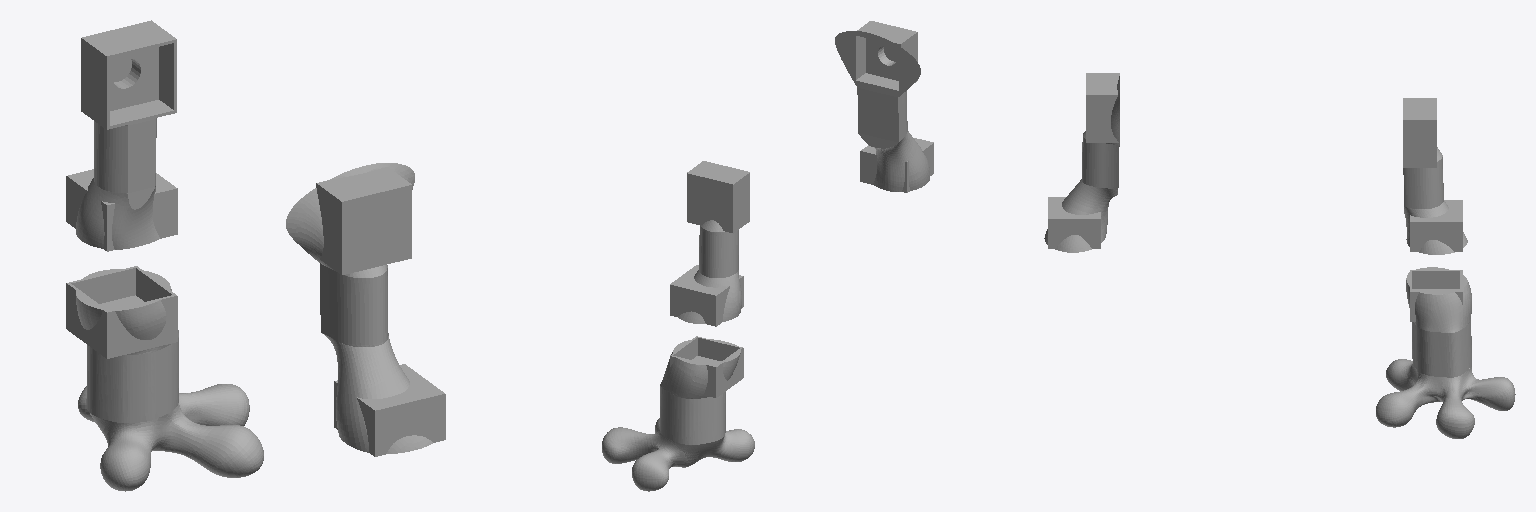
robot.urdf — FrogBot1_top-FrogBot1-y-9_bottom-FrogBot1-y-9:
<?xml version="1.0" ?>
<robot name="FrogBot1_top-FrogBot1-y-9_bottom-FrogBot1-y-9">

<material name="pla_5_percent_infill">
  <color rgba="0.700 0.700 0.700 1.000"/>
</material>

<link name="base_link">
  <inertial>
    <origin xyz="0 0 0" rpy="0 0 0"/>
    <mass value="1.4103143072721238"/>
    <inertia ixx="0.004671865419262023" iyy="0.01102984328633242" izz="0.011972094032648898" ixy="0.00015185420958179873" iyz="8.583160306759328e-05" ixz="-0.0012132770853355082"/>
  </inertial>
  <visual>
    <origin xyz="0 0 0" rpy="0 0 0"/>
    <geometry>
      <mesh filename="simple_meshes/base_link.stl" scale="0.001 0.001 0.001"/>
    </geometry>
    <material name="pla_5_percent_infill"/>
  </visual>
  <collision>
    <origin xyz="0 0 0" rpy="0 0 0"/>
    <geometry>
      <mesh filename="simple_meshes/base_link.stl" scale="0.001 0.001 0.001"/>
    </geometry>
  </collision>
</link>

<link name="body_1_0_1">
  <inertial>
    <origin xyz="-0.045735 -0.109621 -0.00462" rpy="0 0 0"/>
    <mass value="0.048668286482608916"/>
    <inertia ixx="6.887661500618036e-05" iyy="7.04577874364621e-05" izz="1.6242132023644267e-05" ixy="-4.716009065339937e-07" iyz="4.197512352394723e-06" ixz="8.826738522888514e-07"/>
  </inertial>
  <visual>
    <origin xyz="-0.045735 -0.109621 -0.00462" rpy="0 0 0"/>
    <geometry>
      <mesh filename="simple_meshes/body_1_0_1.stl" scale="0.001 0.001 0.001"/>
    </geometry>
    <material name="pla_5_percent_infill"/>
  </visual>
  <collision>
    <origin xyz="-0.045735 -0.109621 -0.00462" rpy="0 0 0"/>
    <geometry>
      <mesh filename="simple_meshes/body_1_0_1.stl" scale="0.001 0.001 0.001"/>
    </geometry>
  </collision>
</link>

<link name="body_1_1_1">
  <inertial>
    <origin xyz="0.086489 -0.109621 -0.018802" rpy="0 0 0"/>
    <mass value="0.09023407120088159"/>
    <inertia ixx="0.0001316774515884027" iyy="0.00013956713434980727" izz="4.8496490876420544e-05" ixy="6.474050119949226e-06" iyz="1.7480621280759642e-05" ixz="-2.6032231009540325e-05"/>
  </inertial>
  <visual>
    <origin xyz="0.086489 -0.109621 -0.018802" rpy="0 0 0"/>
    <geometry>
      <mesh filename="simple_meshes/body_1_1_1.stl" scale="0.001 0.001 0.001"/>
    </geometry>
    <material name="pla_5_percent_infill"/>
  </visual>
  <collision>
    <origin xyz="0.086489 -0.109621 -0.018802" rpy="0 0 0"/>
    <geometry>
      <mesh filename="simple_meshes/body_1_1_1.stl" scale="0.001 0.001 0.001"/>
    </geometry>
  </collision>
</link>

<link name="body_1_2_1">
  <inertial>
    <origin xyz="-0.040267 0.109621 -0.027764" rpy="0 0 0"/>
    <mass value="0.060337074263231386"/>
    <inertia ixx="0.00012370040882443483" iyy="0.00012167358474623308" izz="2.5170059210042608e-05" ixy="6.817579499822802e-07" iyz="-1.8037113073678937e-05" ixz="-1.8531244077202476e-07"/>
  </inertial>
  <visual>
    <origin xyz="-0.040267 0.109621 -0.027764" rpy="0 0 0"/>
    <geometry>
      <mesh filename="simple_meshes/body_1_2_1.stl" scale="0.001 0.001 0.001"/>
    </geometry>
    <material name="pla_5_percent_infill"/>
  </visual>
  <collision>
    <origin xyz="-0.040267 0.109621 -0.027764" rpy="0 0 0"/>
    <geometry>
      <mesh filename="simple_meshes/body_1_2_1.stl" scale="0.001 0.001 0.001"/>
    </geometry>
  </collision>
</link>

<link name="body_1_3_1">
  <inertial>
    <origin xyz="0.090407 0.109621 -0.022193" rpy="0 0 0"/>
    <mass value="0.08843891257572972"/>
    <inertia ixx="0.0001413551611192925" iyy="0.00015111699674743868" izz="5.070226831142225e-05" ixy="-7.8995368414127e-06" iyz="-2.157702250069266e-05" ixz="-3.1318415931436713e-05"/>
  </inertial>
  <visual>
    <origin xyz="0.090407 0.109621 -0.022193" rpy="0 0 0"/>
    <geometry>
      <mesh filename="simple_meshes/body_1_3_1.stl" scale="0.001 0.001 0.001"/>
    </geometry>
    <material name="pla_5_percent_infill"/>
  </visual>
  <collision>
    <origin xyz="0.090407 0.109621 -0.022193" rpy="0 0 0"/>
    <geometry>
      <mesh filename="simple_meshes/body_1_3_1.stl" scale="0.001 0.001 0.001"/>
    </geometry>
  </collision>
</link>

<link name="body_2_0_1">
  <inertial>
    <origin xyz="-0.049562 -0.159797 0.120064" rpy="0 0 0"/>
    <mass value="0.1238908610975304"/>
    <inertia ixx="0.000187905697823754" iyy="0.0002011997183433891" izz="0.0001437409351077077" ixy="-4.738678014313538e-06" iyz="-1.7145257468825434e-06" ixz="4.229083921211533e-05"/>
  </inertial>
  <visual>
    <origin xyz="-0.049562 -0.159797 0.120064" rpy="0 0 0"/>
    <geometry>
      <mesh filename="simple_meshes/body_2_0_1.stl" scale="0.001 0.001 0.001"/>
    </geometry>
    <material name="pla_5_percent_infill"/>
  </visual>
  <collision>
    <origin xyz="-0.049562 -0.159797 0.120064" rpy="0 0 0"/>
    <geometry>
      <mesh filename="simple_meshes/body_2_0_1.stl" scale="0.001 0.001 0.001"/>
    </geometry>
  </collision>
</link>

<link name="body_2_1_1">
  <inertial>
    <origin xyz="0.121182 -0.173952 0.120064" rpy="0 0 0"/>
    <mass value="0.1377099919851931"/>
    <inertia ixx="0.00020140669127355695" iyy="0.00021489094800557738" izz="0.00016042424234425767" ixy="-8.164014249785988e-07" iyz="2.438609023181805e-05" ixz="5.393201911764326e-05"/>
  </inertial>
  <visual>
    <origin xyz="0.121182 -0.173952 0.120064" rpy="0 0 0"/>
    <geometry>
      <mesh filename="simple_meshes/body_2_1_1.stl" scale="0.001 0.001 0.001"/>
    </geometry>
    <material name="pla_5_percent_infill"/>
  </visual>
  <collision>
    <origin xyz="0.121182 -0.173952 0.120064" rpy="0 0 0"/>
    <geometry>
      <mesh filename="simple_meshes/body_2_1_1.stl" scale="0.001 0.001 0.001"/>
    </geometry>
  </collision>
</link>

<link name="body_2_2_1">
  <inertial>
    <origin xyz="-0.04311 0.170506 0.120064" rpy="0 0 0"/>
    <mass value="0.12976234413611415"/>
    <inertia ixx="0.00019952976041925918" iyy="0.00019339136669536874" izz="0.00014883443463354663" ixy="1.3197516990387948e-06" iyz="-9.493466190841314e-06" ixz="3.08909521455473e-05"/>
  </inertial>
  <visual>
    <origin xyz="-0.04311 0.170506 0.120064" rpy="0 0 0"/>
    <geometry>
      <mesh filename="simple_meshes/body_2_2_1.stl" scale="0.001 0.001 0.001"/>
    </geometry>
    <material name="pla_5_percent_infill"/>
  </visual>
  <collision>
    <origin xyz="-0.04311 0.170506 0.120064" rpy="0 0 0"/>
    <geometry>
      <mesh filename="simple_meshes/body_2_2_1.stl" scale="0.001 0.001 0.001"/>
    </geometry>
  </collision>
</link>

<link name="body_2_3_1">
  <inertial>
    <origin xyz="0.129712 0.175384 0.120064" rpy="0 0 0"/>
    <mass value="0.1332848953881674"/>
    <inertia ixx="0.00020992661733601828" iyy="0.00020852034400216726" izz="0.0001465374956686489" ixy="7.162724412855016e-06" iyz="-3.056641905423239e-05" ixz="5.084116385044822e-05"/>
  </inertial>
  <visual>
    <origin xyz="0.129712 0.175384 0.120064" rpy="0 0 0"/>
    <geometry>
      <mesh filename="simple_meshes/body_2_3_1.stl" scale="0.001 0.001 0.001"/>
    </geometry>
    <material name="pla_5_percent_infill"/>
  </visual>
  <collision>
    <origin xyz="0.129712 0.175384 0.120064" rpy="0 0 0"/>
    <geometry>
      <mesh filename="simple_meshes/body_2_3_1.stl" scale="0.001 0.001 0.001"/>
    </geometry>
  </collision>
</link>

<joint name="joint_1_0" type="revolute">
  <origin xyz="0.045735 0.109621 0.00462" rpy="0 0 0"/>
  <parent link="base_link"/>
  <child link="body_1_0_1"/>
  <axis xyz="0.0 0.0 -1.0"/>
  <limit upper="1.2" lower="-1.2" effort="3.8" velocity="5.4"/>
</joint>
<transmission name="joint_1_0_tran">
  <type>transmission_interface/SimpleTransmission</type>
  <joint name="joint_1_0">
    <hardwareInterface>PositionJointInterface</hardwareInterface>
  </joint>
  <actuator name="joint_1_0_actr">
    <hardwareInterface>PositionJointInterface</hardwareInterface>
    <mechanicalReduction>1</mechanicalReduction>
  </actuator>
</transmission>

<joint name="joint_1_1" type="revolute">
  <origin xyz="-0.086489 0.109621 0.018802" rpy="0 0 0"/>
  <parent link="base_link"/>
  <child link="body_1_1_1"/>
  <axis xyz="0.0 0.0 -1.0"/>
  <limit upper="1.2" lower="-1.2" effort="3.8" velocity="5.4"/>
</joint>
<transmission name="joint_1_1_tran">
  <type>transmission_interface/SimpleTransmission</type>
  <joint name="joint_1_1">
    <hardwareInterface>PositionJointInterface</hardwareInterface>
  </joint>
  <actuator name="joint_1_1_actr">
    <hardwareInterface>PositionJointInterface</hardwareInterface>
    <mechanicalReduction>1</mechanicalReduction>
  </actuator>
</transmission>

<joint name="joint_1_2" type="revolute">
  <origin xyz="0.040267 -0.109621 0.027764" rpy="0 0 0"/>
  <parent link="base_link"/>
  <child link="body_1_2_1"/>
  <axis xyz="0.0 0.0 -1.0"/>
  <limit upper="1.2" lower="-1.2" effort="3.8" velocity="5.4"/>
</joint>
<transmission name="joint_1_2_tran">
  <type>transmission_interface/SimpleTransmission</type>
  <joint name="joint_1_2">
    <hardwareInterface>PositionJointInterface</hardwareInterface>
  </joint>
  <actuator name="joint_1_2_actr">
    <hardwareInterface>PositionJointInterface</hardwareInterface>
    <mechanicalReduction>1</mechanicalReduction>
  </actuator>
</transmission>

<joint name="joint_1_3" type="revolute">
  <origin xyz="-0.090407 -0.109621 0.022193" rpy="0 0 0"/>
  <parent link="base_link"/>
  <child link="body_1_3_1"/>
  <axis xyz="0.0 0.0 -1.0"/>
  <limit upper="1.2" lower="-1.2" effort="3.8" velocity="5.4"/>
</joint>
<transmission name="joint_1_3_tran">
  <type>transmission_interface/SimpleTransmission</type>
  <joint name="joint_1_3">
    <hardwareInterface>PositionJointInterface</hardwareInterface>
  </joint>
  <actuator name="joint_1_3_actr">
    <hardwareInterface>PositionJointInterface</hardwareInterface>
    <mechanicalReduction>1</mechanicalReduction>
  </actuator>
</transmission>

<joint name="joint_2_0" type="revolute">
  <origin xyz="0.003827 0.050176 -0.124684" rpy="0 0 0"/>
  <parent link="body_1_0_1"/>
  <child link="body_2_0_1"/>
  <axis xyz="0.0 1.0 0.0"/>
  <limit upper="1.2" lower="-1.2" effort="3.8" velocity="5.4"/>
</joint>
<transmission name="joint_2_0_tran">
  <type>transmission_interface/SimpleTransmission</type>
  <joint name="joint_2_0">
    <hardwareInterface>PositionJointInterface</hardwareInterface>
  </joint>
  <actuator name="joint_2_0_actr">
    <hardwareInterface>PositionJointInterface</hardwareInterface>
    <mechanicalReduction>1</mechanicalReduction>
  </actuator>
</transmission>

<joint name="joint_2_1" type="revolute">
  <origin xyz="-0.034693 0.064331 -0.138866" rpy="0 0 0"/>
  <parent link="body_1_1_1"/>
  <child link="body_2_1_1"/>
  <axis xyz="0.0 1.0 0.0"/>
  <limit upper="1.2" lower="-1.2" effort="3.8" velocity="5.4"/>
</joint>
<transmission name="joint_2_1_tran">
  <type>transmission_interface/SimpleTransmission</type>
  <joint name="joint_2_1">
    <hardwareInterface>PositionJointInterface</hardwareInterface>
  </joint>
  <actuator name="joint_2_1_actr">
    <hardwareInterface>PositionJointInterface</hardwareInterface>
    <mechanicalReduction>1</mechanicalReduction>
  </actuator>
</transmission>

<joint name="joint_2_2" type="revolute">
  <origin xyz="0.002843 -0.060885 -0.147828" rpy="0 0 0"/>
  <parent link="body_1_2_1"/>
  <child link="body_2_2_1"/>
  <axis xyz="0.0 1.0 0.0"/>
  <limit upper="1.2" lower="-1.2" effort="3.8" velocity="5.4"/>
</joint>
<transmission name="joint_2_2_tran">
  <type>transmission_interface/SimpleTransmission</type>
  <joint name="joint_2_2">
    <hardwareInterface>PositionJointInterface</hardwareInterface>
  </joint>
  <actuator name="joint_2_2_actr">
    <hardwareInterface>PositionJointInterface</hardwareInterface>
    <mechanicalReduction>1</mechanicalReduction>
  </actuator>
</transmission>

<joint name="joint_2_3" type="revolute">
  <origin xyz="-0.039305 -0.065763 -0.142257" rpy="0 0 0"/>
  <parent link="body_1_3_1"/>
  <child link="body_2_3_1"/>
  <axis xyz="0.0 1.0 0.0"/>
  <limit upper="1.2" lower="-1.2" effort="3.8" velocity="5.4"/>
</joint>
<transmission name="joint_2_3_tran">
  <type>transmission_interface/SimpleTransmission</type>
  <joint name="joint_2_3">
    <hardwareInterface>PositionJointInterface</hardwareInterface>
  </joint>
  <actuator name="joint_2_3_actr">
    <hardwareInterface>PositionJointInterface</hardwareInterface>
    <mechanicalReduction>1</mechanicalReduction>
  </actuator>
</transmission>

</robot>

--- Render facts (derived) ---
The picture shows the robot from 3 angles, left to right: view 1: azimuth 30°, elevation 25°; view 2: azimuth 150°, elevation 25°; view 3: azimuth 270°, elevation 25°; orthographic projection.
Robot: FrogBot1_top-FrogBot1-y-9_bottom-FrogBot1-y-9 — 9 links, 8 joints (8 revolute); root link base_link; default pose: all joints at 0.
Visible links, largest first — view 1: body_1_2_1, body_2_0_1, body_1_0_1; view 2: body_2_0_1, body_1_2_1, body_1_0_1; view 3: body_2_0_1, body_1_2_1, body_1_0_1.
Boxes of the visible links, box(x1,y1,x2,y2) form: body_1_2_1: box(286, 163, 445, 456); body_2_0_1: box(66, 266, 263, 491); body_1_0_1: box(66, 20, 177, 251); body_2_0_1: box(602, 336, 754, 491); body_1_2_1: box(835, 21, 933, 192); body_1_0_1: box(670, 161, 749, 326); body_2_0_1: box(1376, 267, 1515, 438); body_1_2_1: box(1044, 73, 1119, 252); body_1_0_1: box(1403, 98, 1467, 254).
Bounding box of the posed robot: 0.1492 × 0.4305 × 0.3185 m (x, y, z).
Meshes: 9 distinct files referenced, 3 mesh visuals loaded (3 binary STL); not drawn: 6 (reference not matched to a file when rendering).